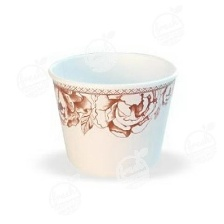paper_cup: (43, 46, 181, 183)
